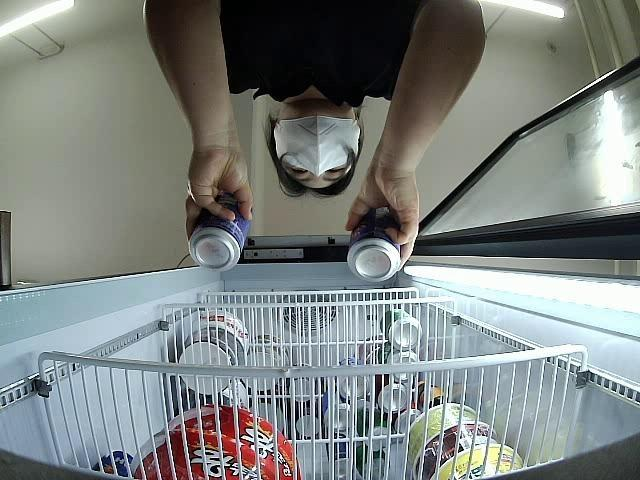14_welchsGrape: (186, 194, 248, 270), (348, 205, 402, 282)
